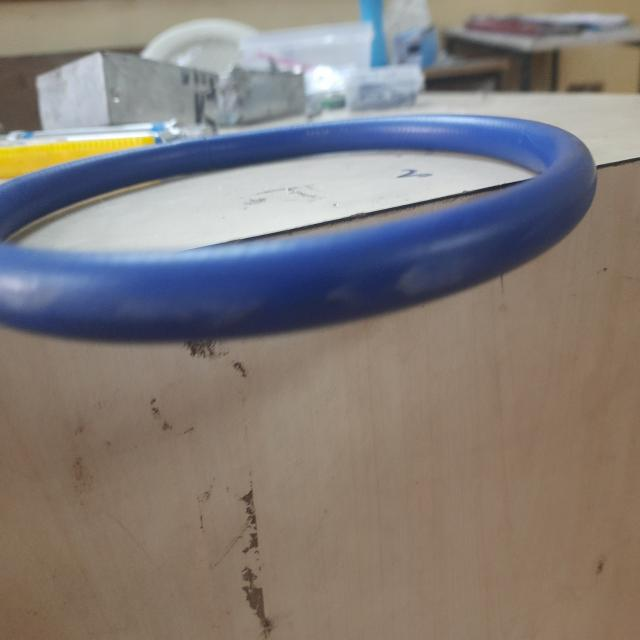daire: (1, 114, 593, 350)
